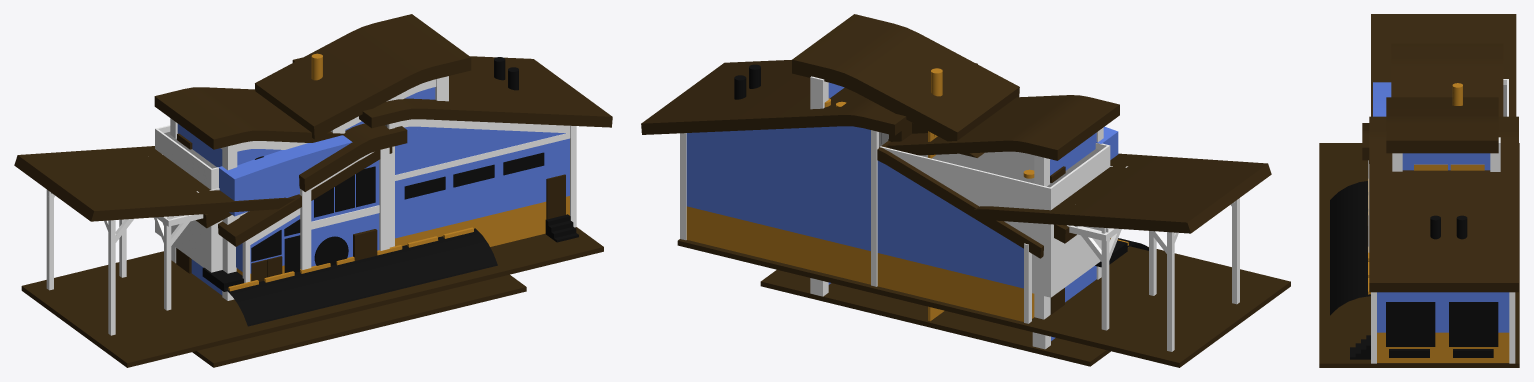
Rendered from houses_1 1.fbx.
3 views of the same model, side by side, from view 1: azimuth 30°, elevation 25°; view 2: azimuth 150°, elevation 25°; view 3: azimuth 270°, elevation 25° (orthographic). The views are drawn at different scales.
Parts seen in each view (by area): view 1: Box063, Box106, Box097, Object001, Box145; view 2: Box063, Box106, Object001, Box097; view 3: Box063, Box106, Object001, Box097, Box145.
Part boxes in pixels (<box>): Box063: <box>14,56,612,367</box>; Box106: <box>176,14,526,367</box>; Box097: <box>155,125,497,326</box>; Object001: <box>119,87,344,310</box>; Box145: <box>299,123,407,269</box>; Box063: <box>641,60,1290,367</box>; Box106: <box>760,14,1110,366</box>; Object001: <box>886,95,1156,330</box>; Box097: <box>824,98,1148,297</box>; Box063: <box>1319,14,1519,367</box>; Box106: <box>1386,83,1500,171</box>; Object001: <box>1391,43,1503,116</box>; Box097: <box>1330,79,1508,315</box>; Box145: <box>1362,123,1369,252</box>.
Bounding box in the file's own units: 2777 × 1138 × 976.
